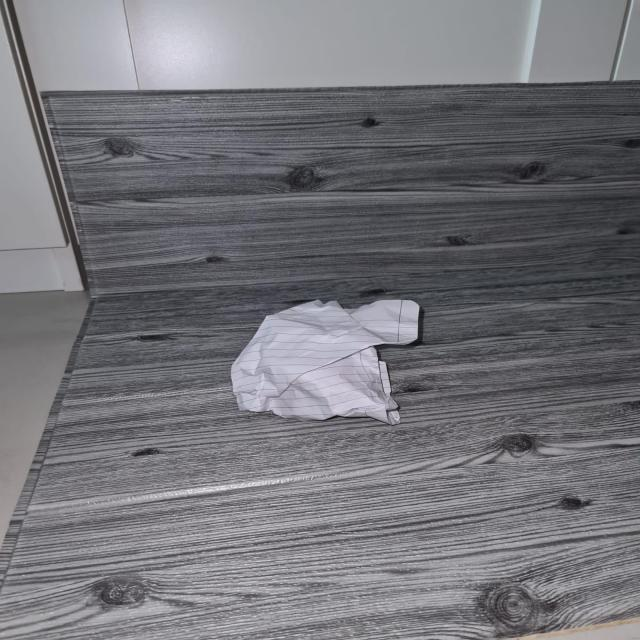trash: (227, 294, 428, 418)
